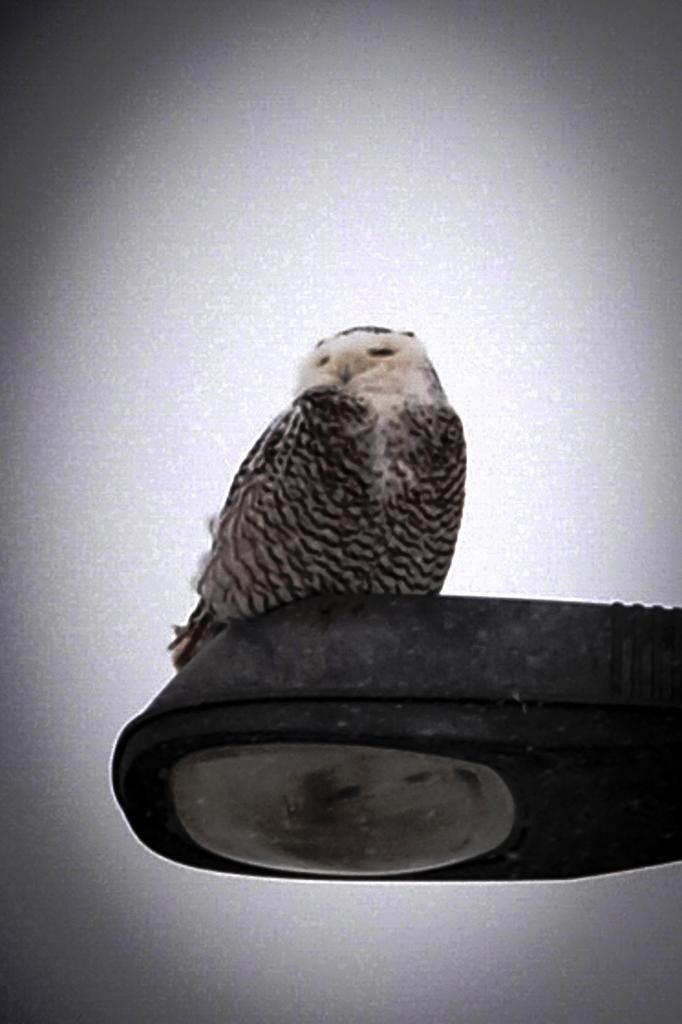Owl: (164, 327, 460, 671)
